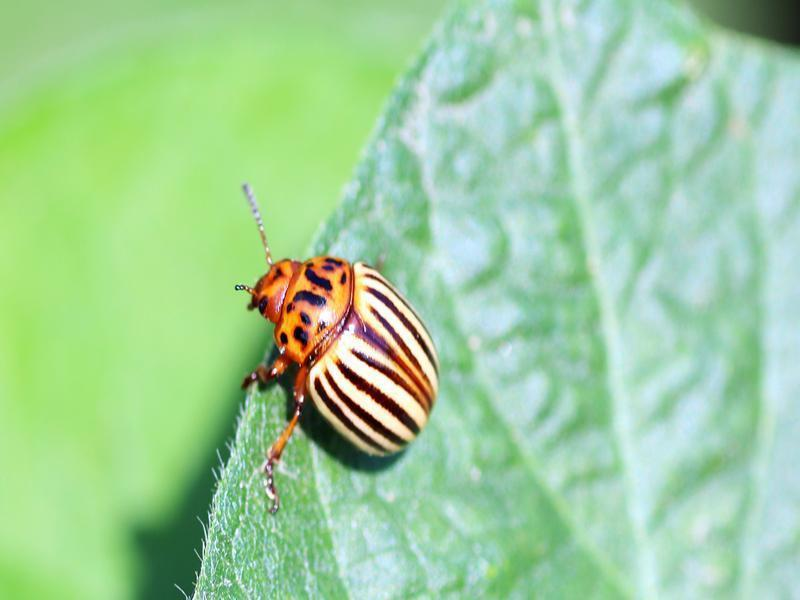hrosc: (237, 224, 449, 503)
